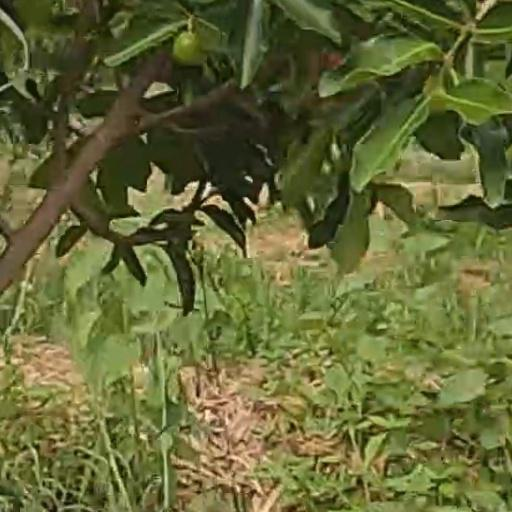acerola: (176, 33, 205, 65), (321, 49, 343, 68)
